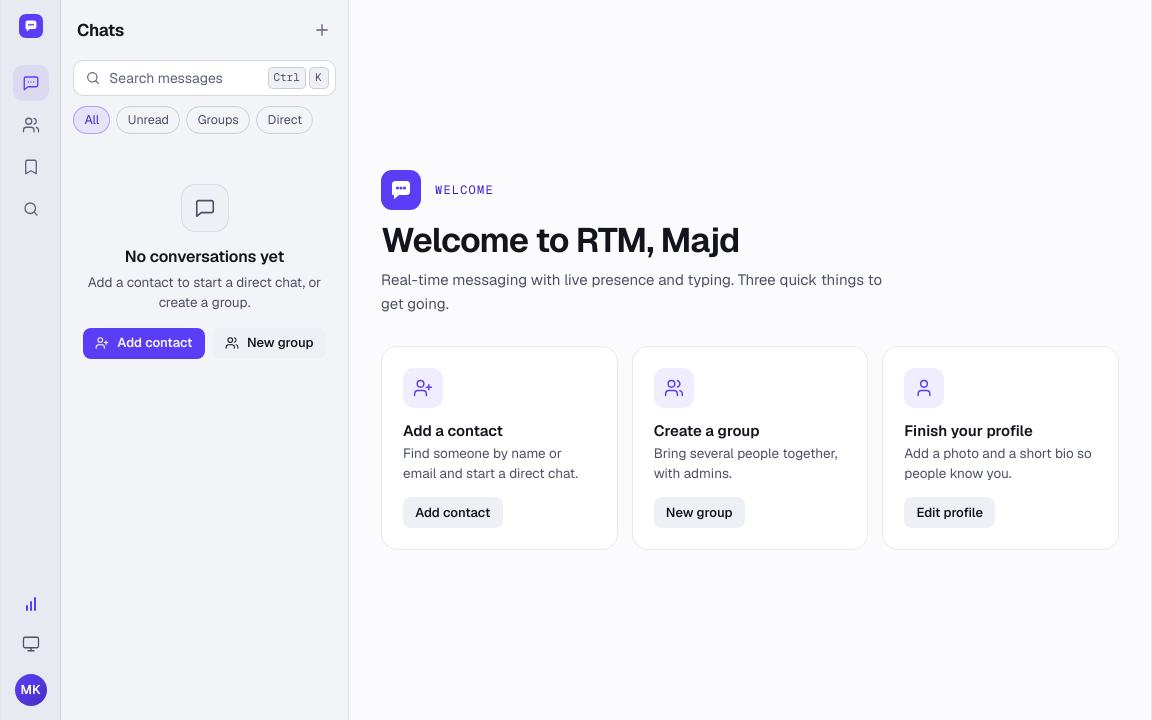
Scenario: the start screen beside the list › welcomes a new account with three first steps
expect the heading "Welcome to RTM, Majd" is shown: met, box [381,218,739,262]
expect the headings read "Add a contact", "Create a group", "Finish your profile", in this order: met, box [403,421,503,440]; [654,421,760,440]; [904,421,1033,440]
Step 1. Click the button "Add contact" in the row of "Edit profile" → (453, 513), box [403,497,502,528]
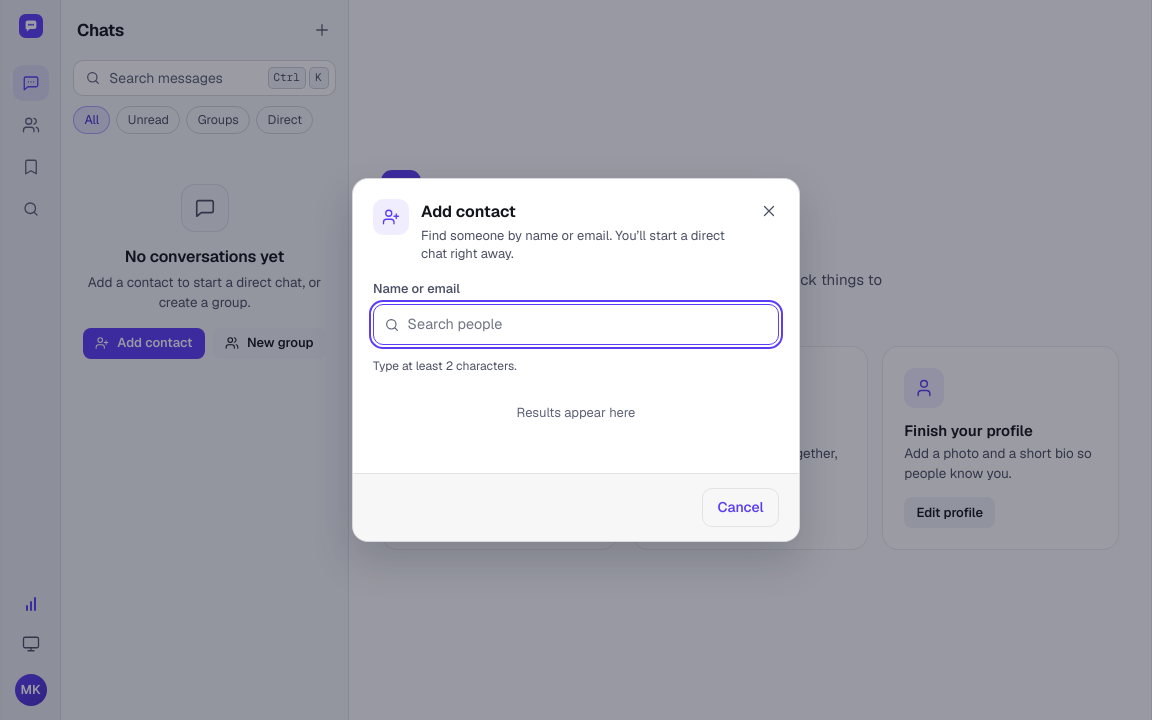
expect the dialog "Add contact" is shown: met, box [352,178,800,542]
